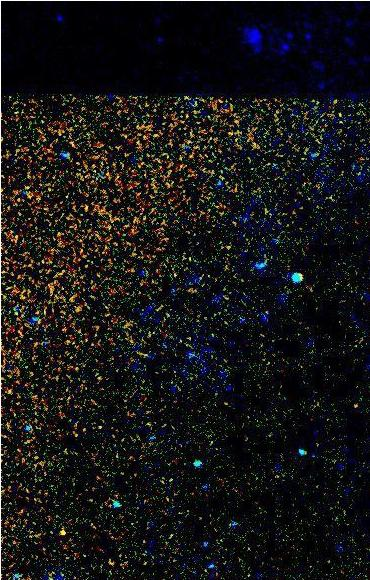star: (44, 517, 74, 547)
